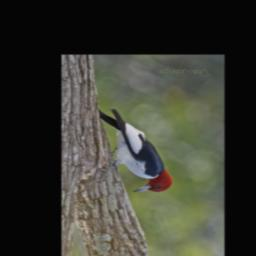Woodpecker: (94, 107, 175, 196)
